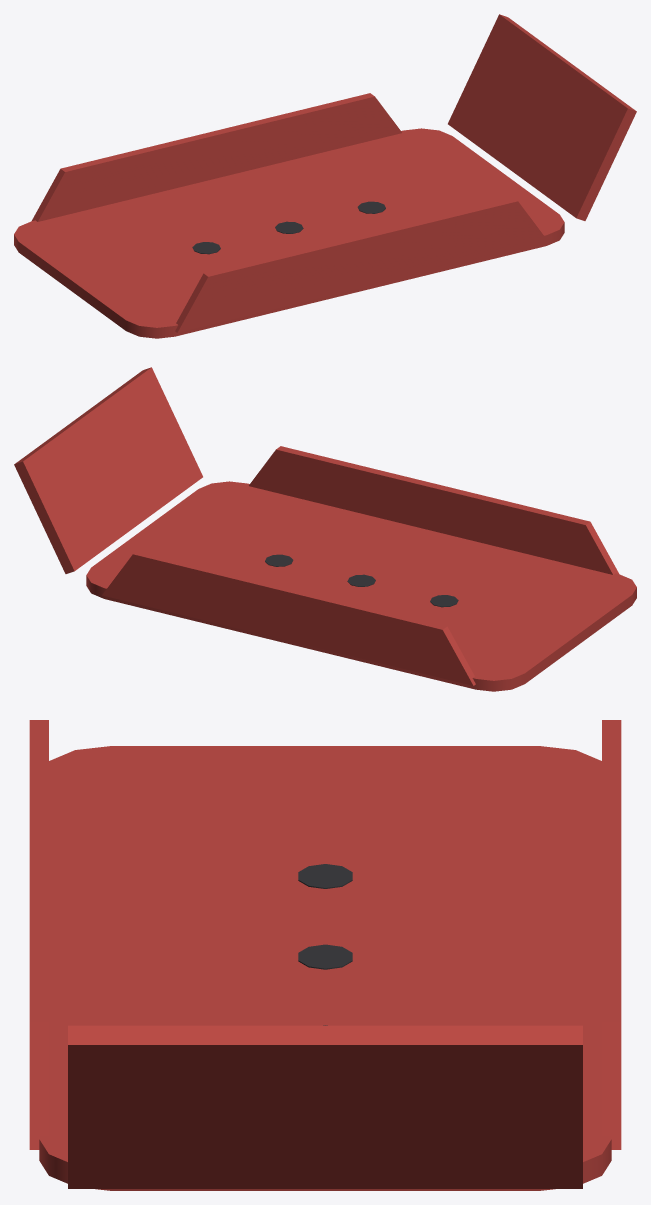
File: plate_lod1.glb
The picture shows the model from 3 angles, top to bottom: view 1: azimuth 30°, elevation 25°; view 2: azimuth 150°, elevation 25°; view 3: azimuth 270°, elevation 25°; orthographic projection. The views are drawn at different scales.
Parts seen in each view (by area): view 1: plate_lod1; view 2: plate_lod1; view 3: plate_lod1.
Boxes of the visible parts, x1,y1,x2,y2 form: plate_lod1: [14, 14, 636, 338]; plate_lod1: [14, 367, 636, 691]; plate_lod1: [29, 720, 621, 1190].
Size of the model in its own units: 0.4844 by 0.1029 by 0.248.
